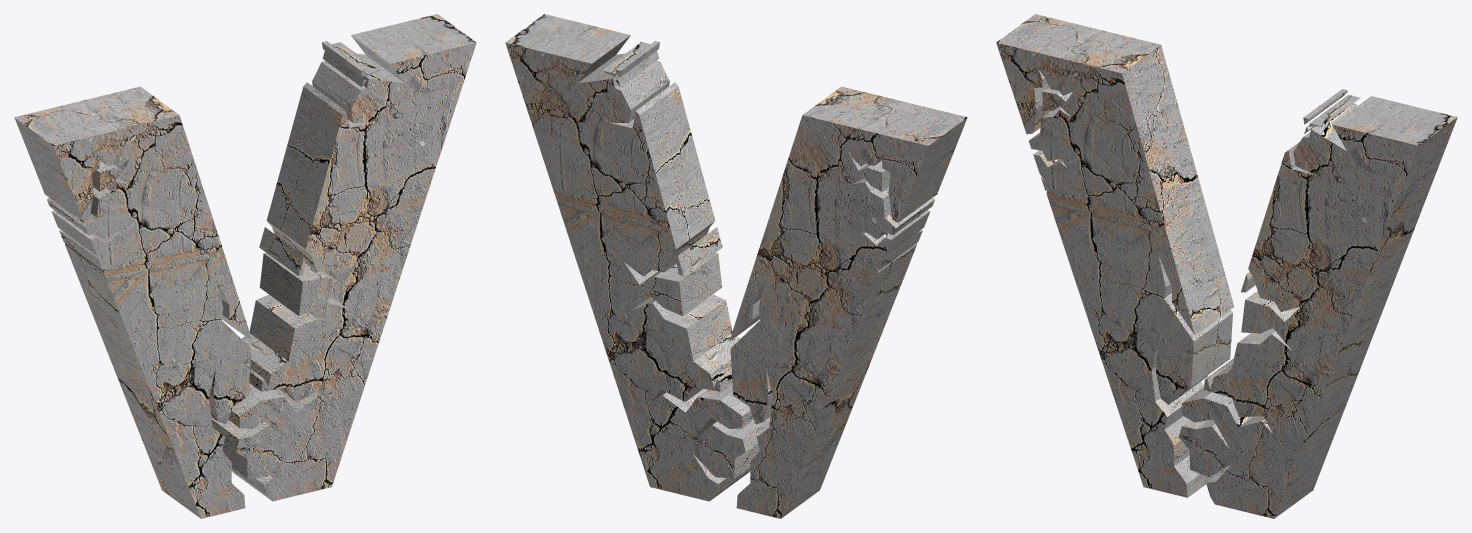
3 renders of one model, left to right at view 1: azimuth 30°, elevation 25°; view 2: azimuth 150°, elevation 25°; view 3: azimuth 330°, elevation 25°, orthographic.
Visible parts, largest first — view 1: V; view 2: V; view 3: V.
Part boxes in pixels (x1,y1,x2,y2): V: [14, 14, 476, 518]; V: [505, 14, 967, 518]; V: [996, 14, 1457, 518].
Bounding box in the file's own units: 93.5 × 86.36 × 15.
Materials: 1 (1 with a texture image).
